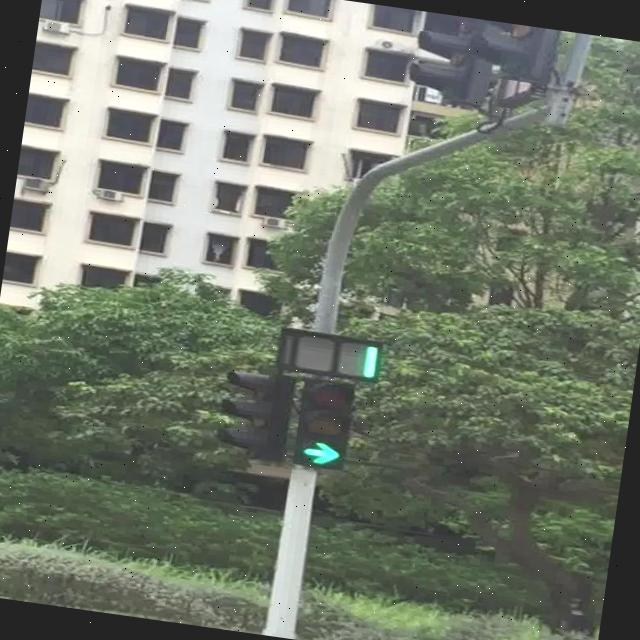green_light: (292, 377, 356, 470)
